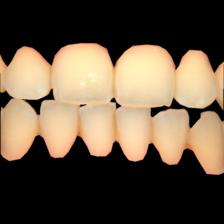cavity: (184, 128, 194, 148), (112, 114, 119, 141), (48, 64, 55, 90), (76, 119, 83, 138), (147, 121, 152, 141), (37, 116, 41, 135)
tooth: (116, 41, 174, 108), (56, 42, 113, 104), (7, 43, 53, 101), (176, 46, 217, 108), (38, 98, 75, 158), (116, 106, 153, 163), (2, 97, 33, 162), (155, 107, 189, 166), (80, 105, 117, 157), (194, 112, 224, 175)
